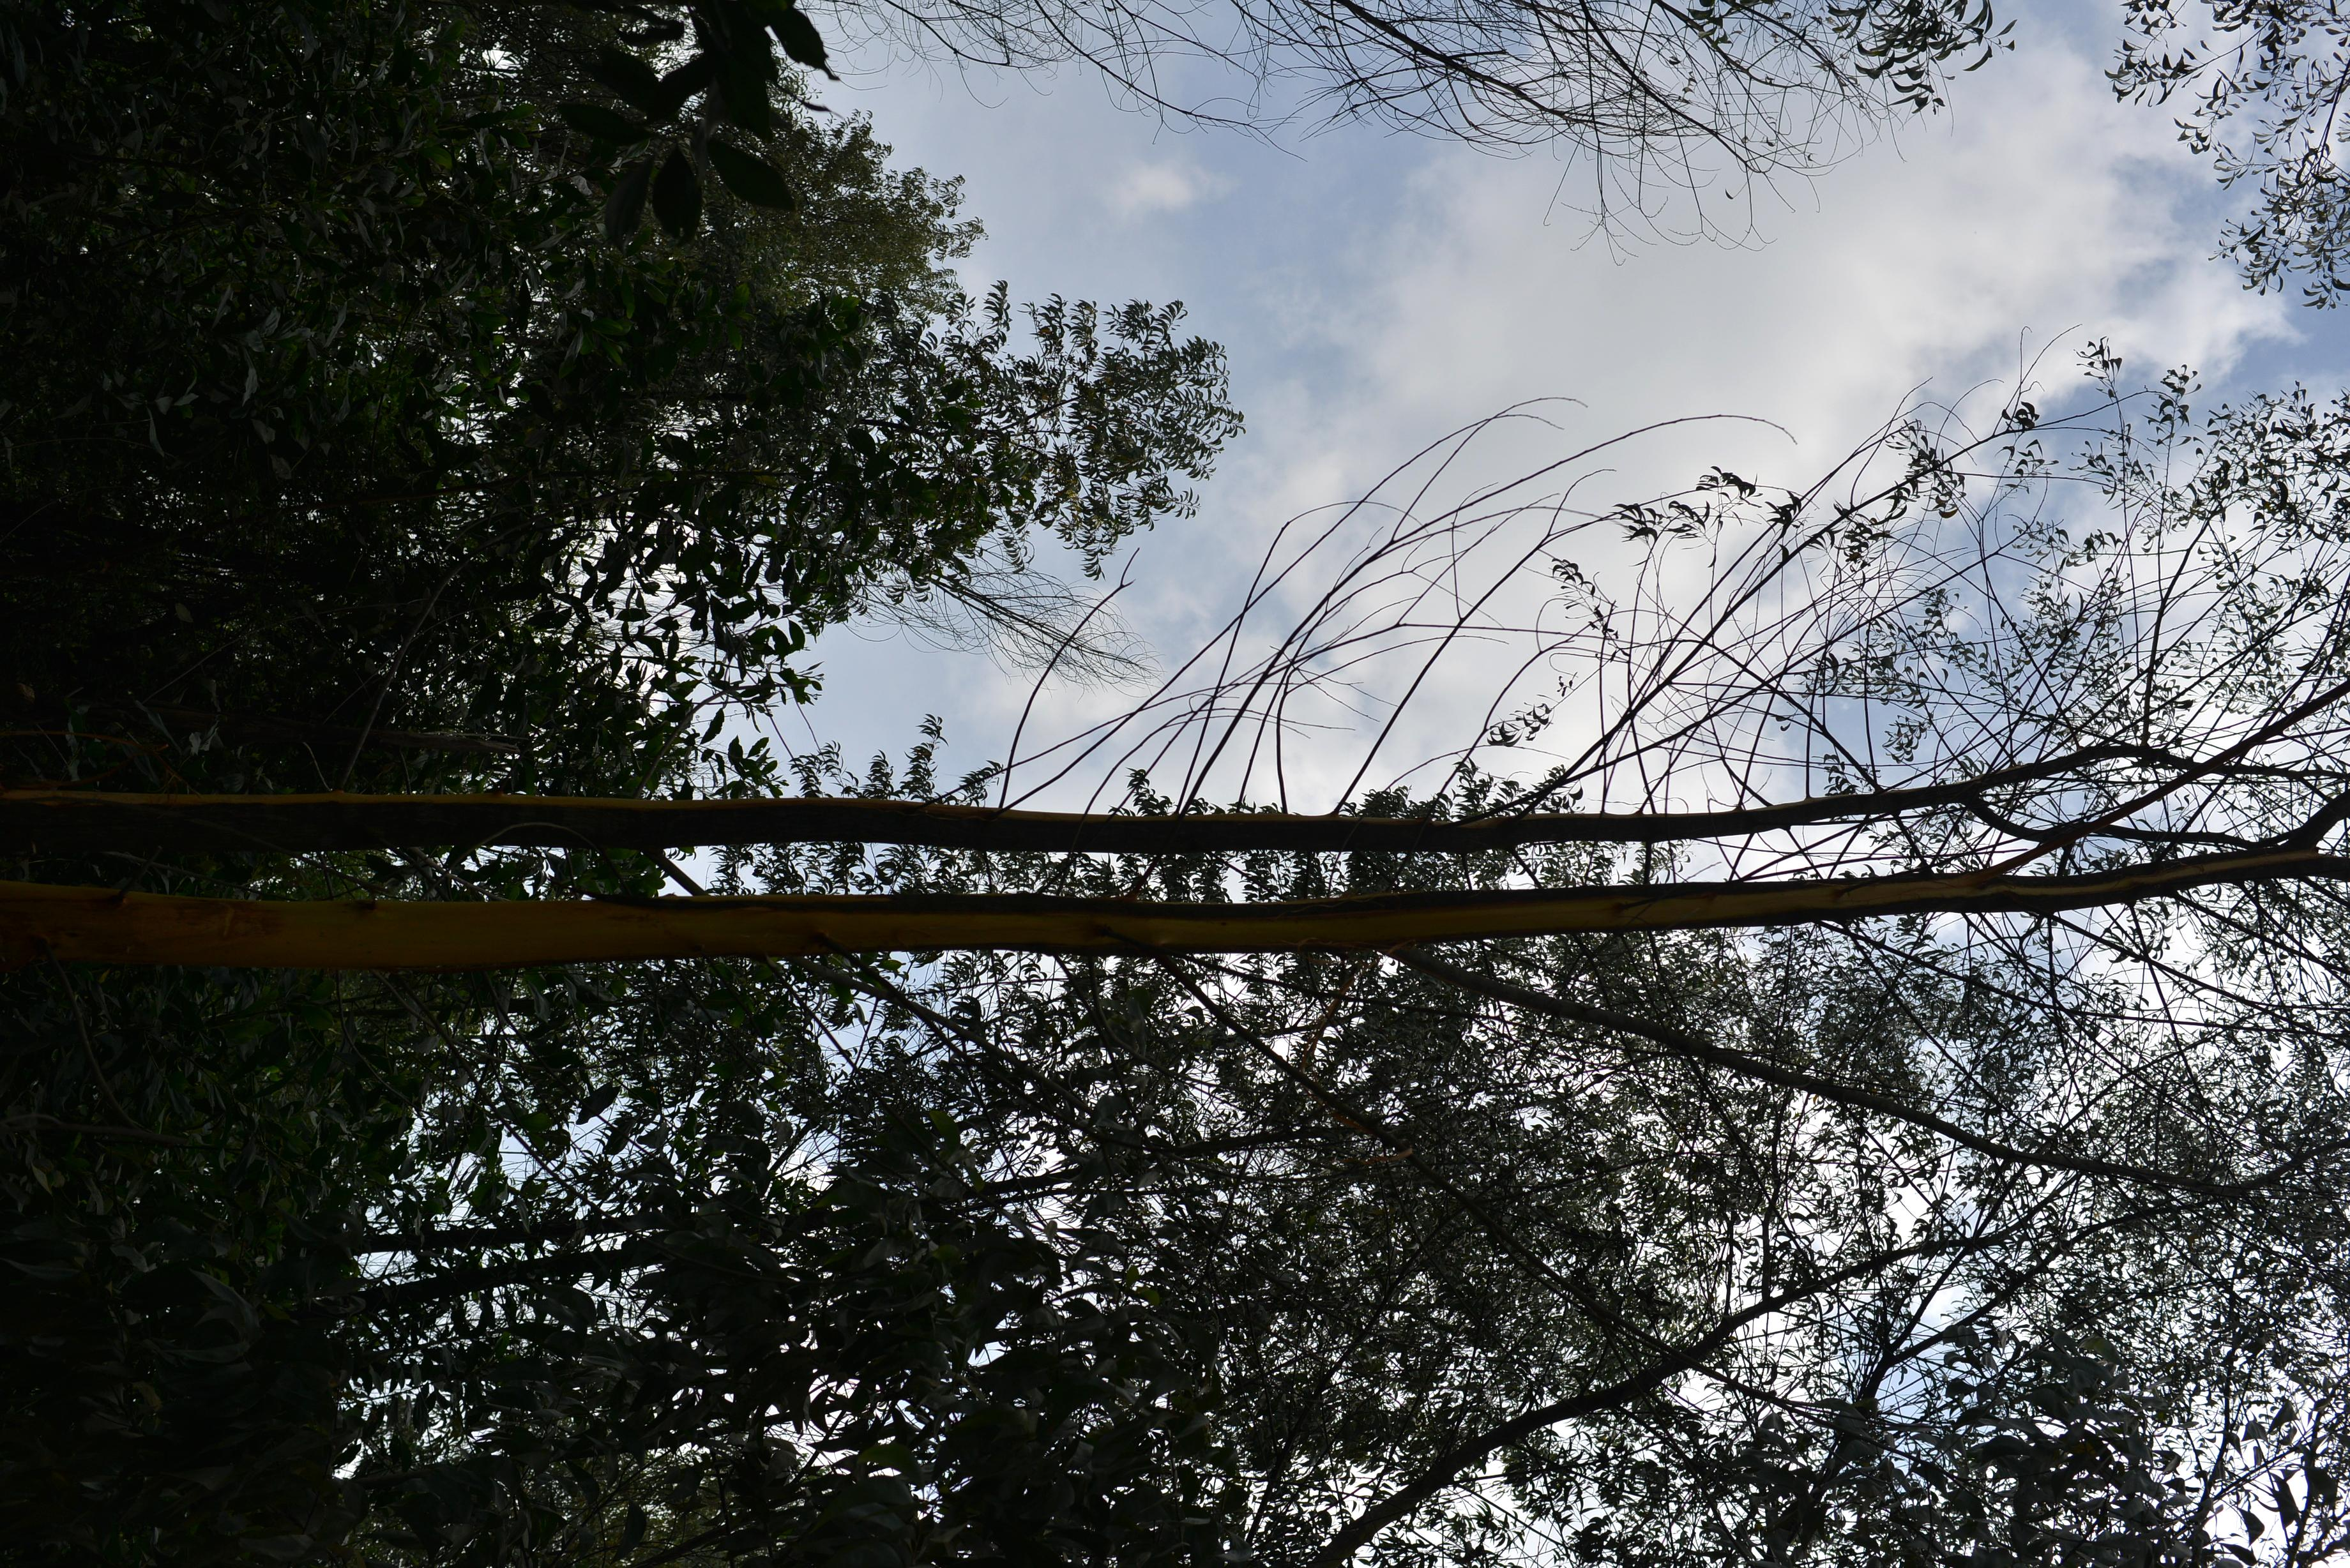Mammals Attack: (23, 875, 2117, 945)
